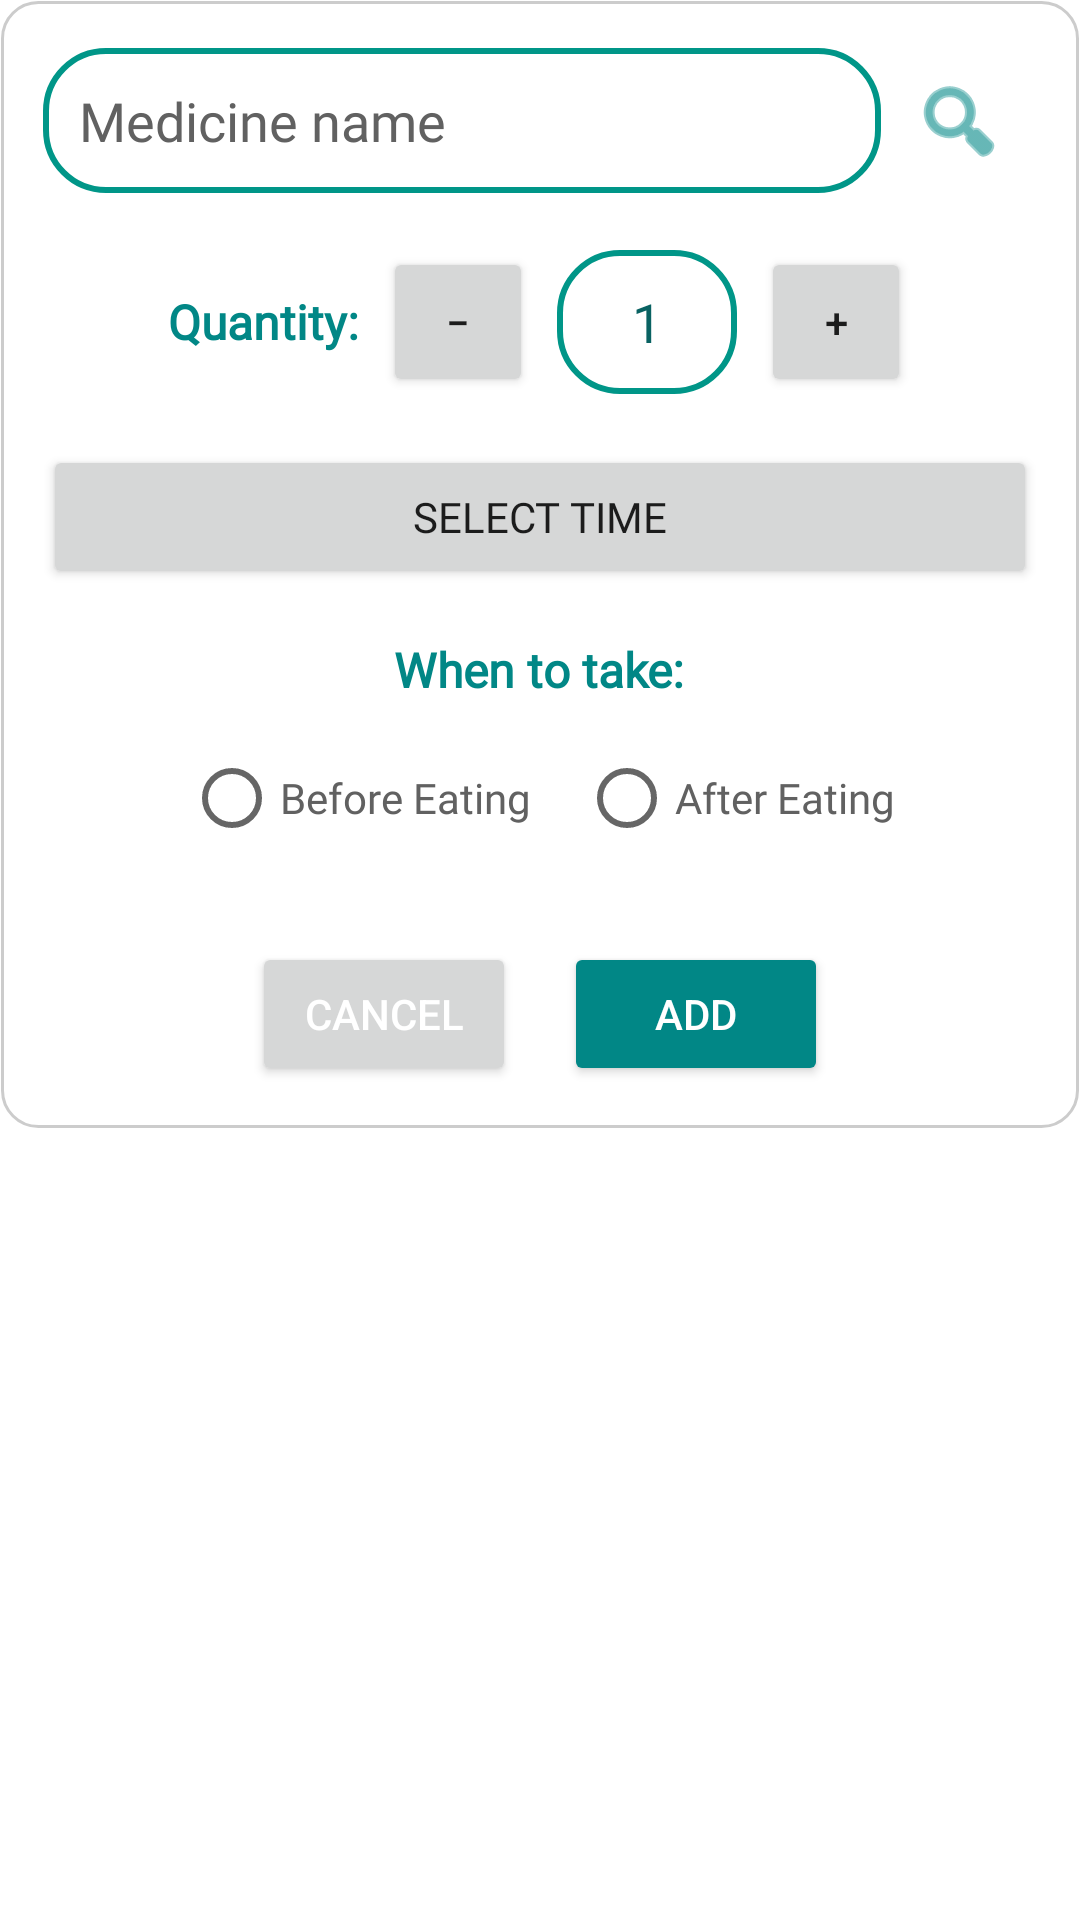

Named icons in this screenshot (1080px x 1920px) and their bounding boxes, (x1, y1, x2, y2):
Search: (923, 86, 995, 157)
